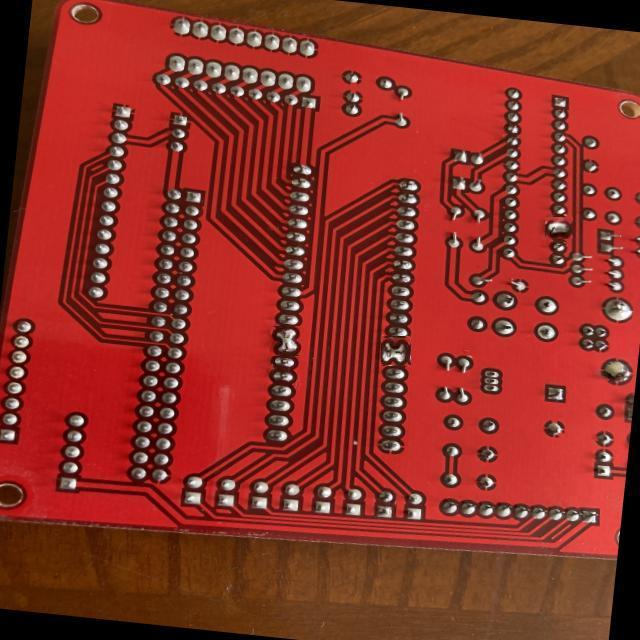damged: (270, 326, 303, 356), (382, 337, 410, 366), (547, 215, 572, 241)
